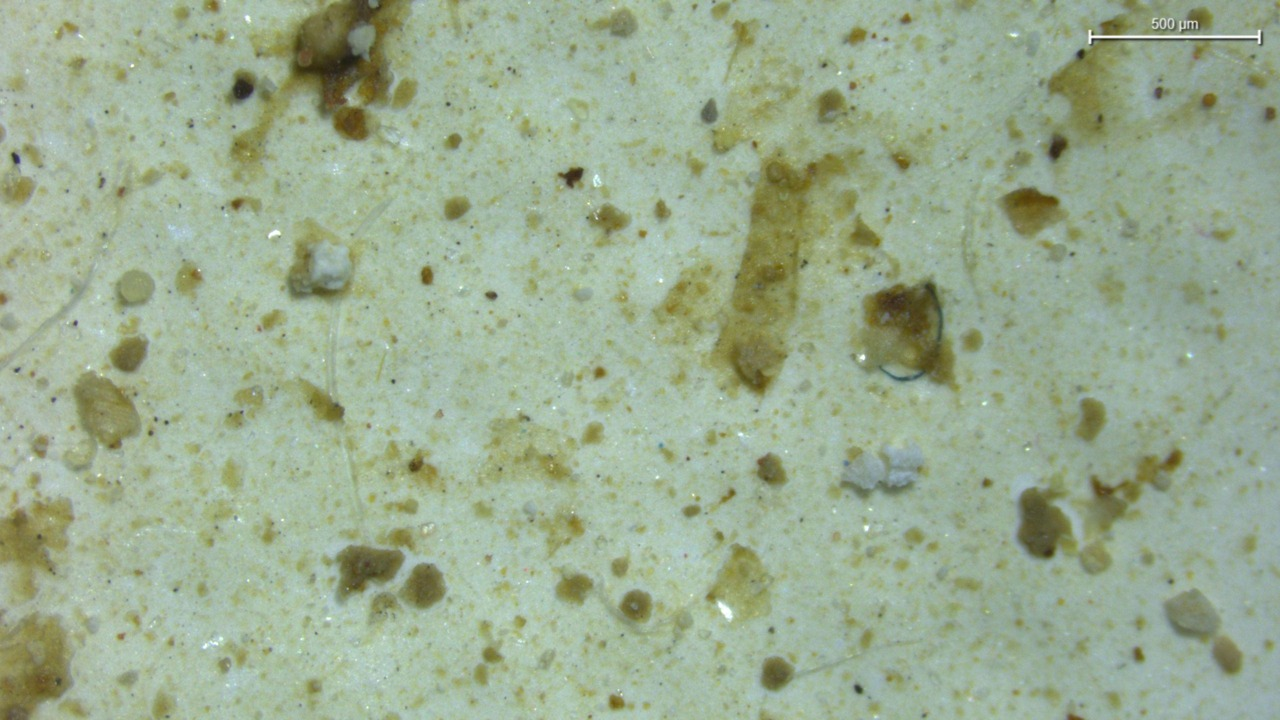microplastic_fragment: (75, 372, 140, 448), (1164, 589, 1220, 639), (307, 240, 351, 291), (884, 446, 924, 488), (842, 453, 886, 490), (118, 270, 154, 304)
